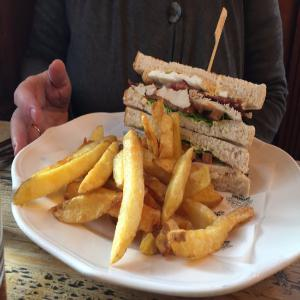fries_350cal: (17, 131, 260, 273)
